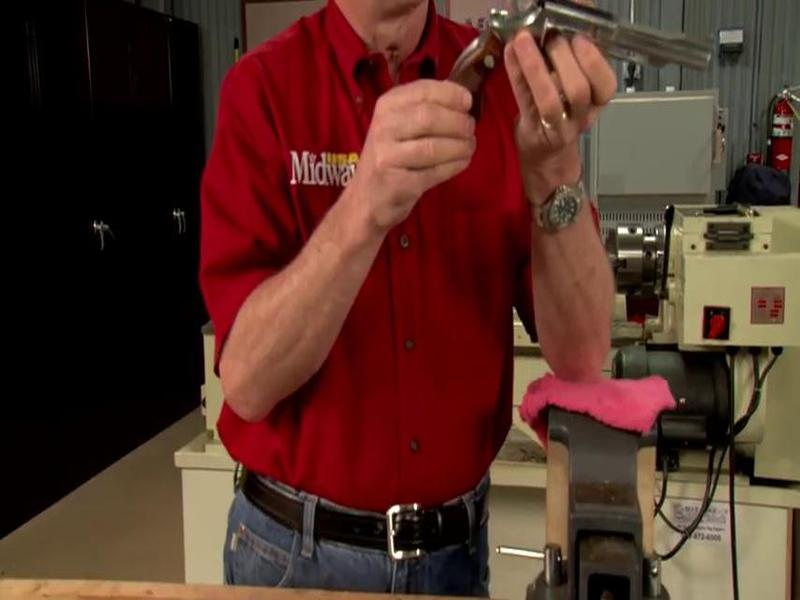Revolver: (421, 1, 727, 144)
